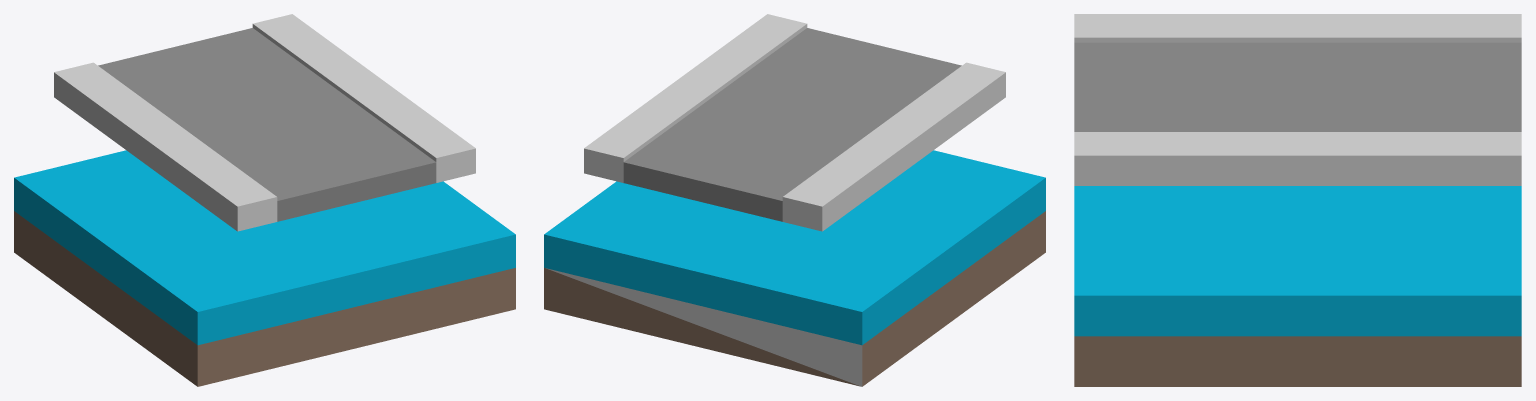
The model's file is PonteAgua.fbx.
3 renders of one model, left to right at view 1: azimuth 30°, elevation 25°; view 2: azimuth 150°, elevation 25°; view 3: azimuth 270°, elevation 25°, orthographic. The views are drawn at different scales.
Visible parts, largest first — view 1: PonteAgua; view 2: PonteAgua; view 3: PonteAgua.
Part boxes in pixels (<box>): PonteAgua: <box>14,14,515,386</box>; PonteAgua: <box>544,14,1045,386</box>; PonteAgua: <box>1074,14,1521,386</box>.
Size of the model in its own units: 8 by 4.1 by 8.
